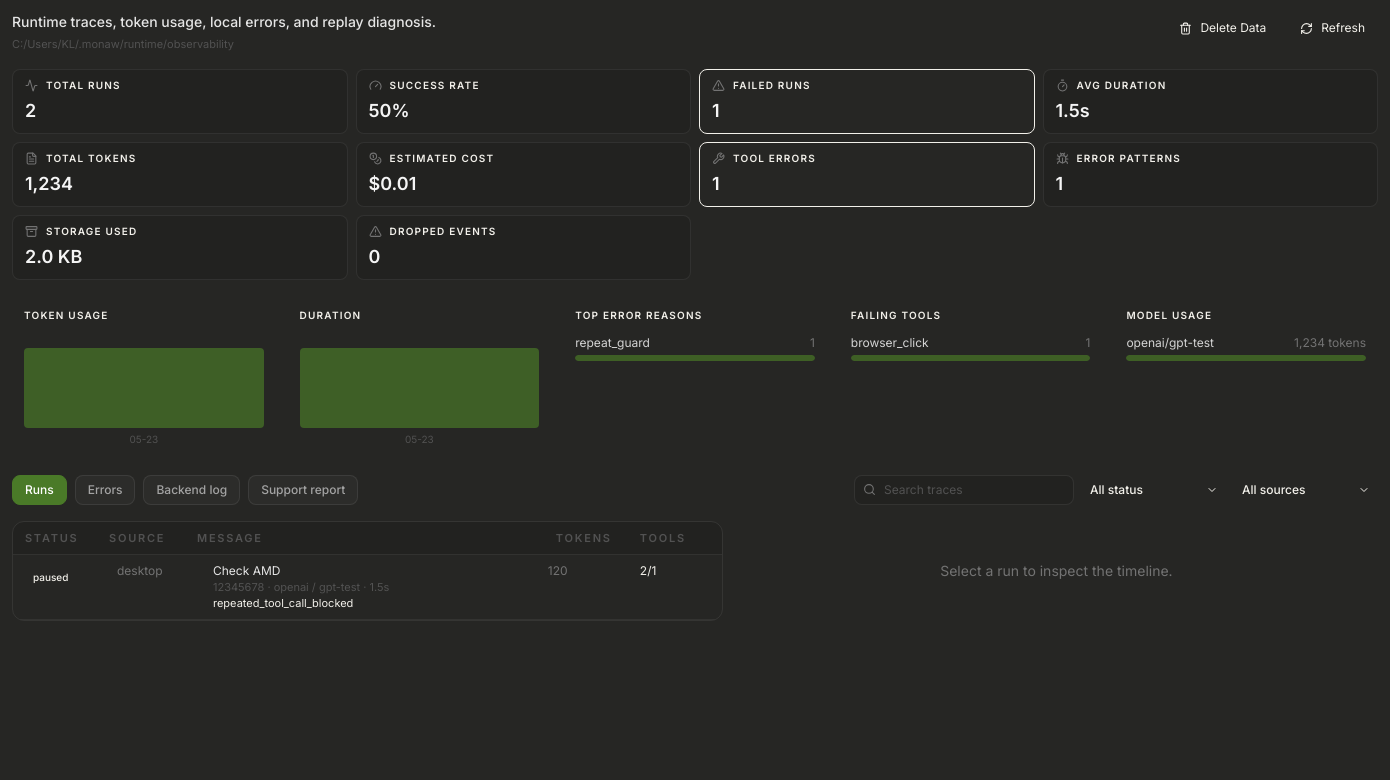
Scenario: ObservabilityPanel › confirms and deletes runtime data
This screenshot has width=1390, height=780.
Click the button "Delete Data" at (1223, 28), box 1166,12 -> 1279,44
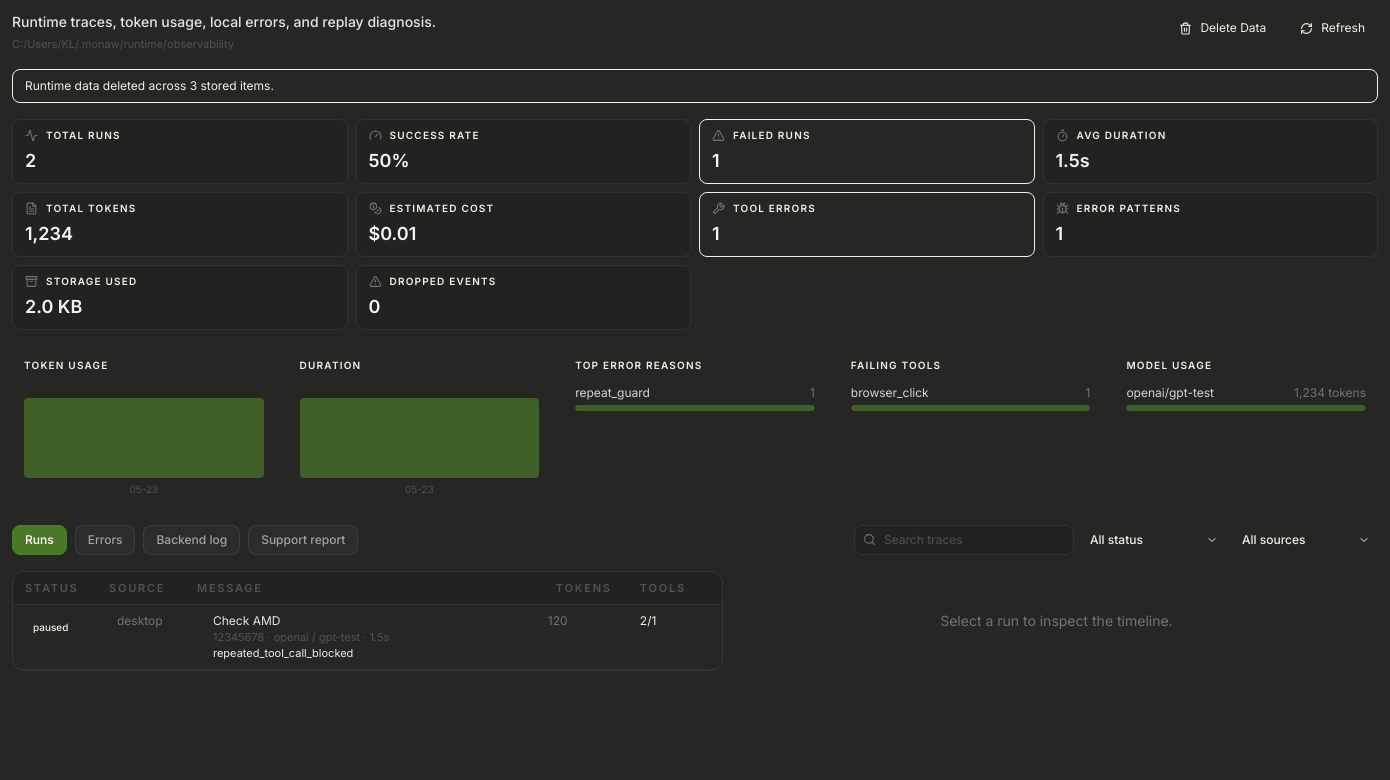
Now the text "Runtime data deleted across 3 stored items." is shown, box 12,68 -> 1378,102
